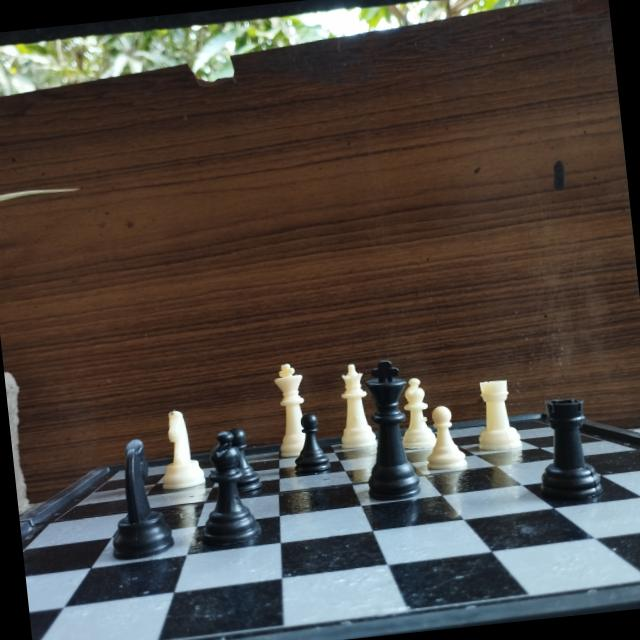Black Bishop: (195, 428, 262, 549)
Black King: (356, 354, 422, 504)
Black Knight: (101, 431, 178, 558)
Black Pawn: (290, 410, 332, 478), (228, 422, 264, 496)
Black Rook: (528, 388, 604, 504)
White Bishop: (401, 372, 436, 454)
White King: (266, 358, 320, 459)
White Knight: (152, 401, 208, 494)
White Pawn: (424, 403, 472, 478)
White Queen: (332, 357, 378, 452)
White Rook: (470, 372, 522, 454)
